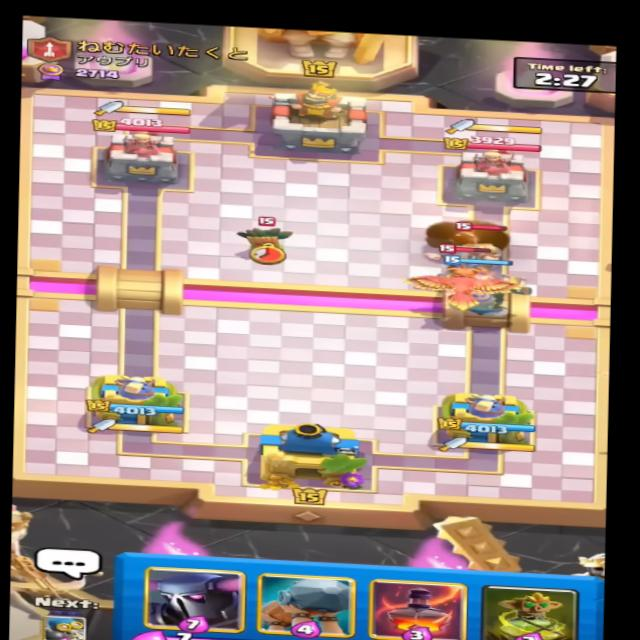Dartgoblin: (238, 212, 307, 263)
Prince: (453, 231, 517, 285)
